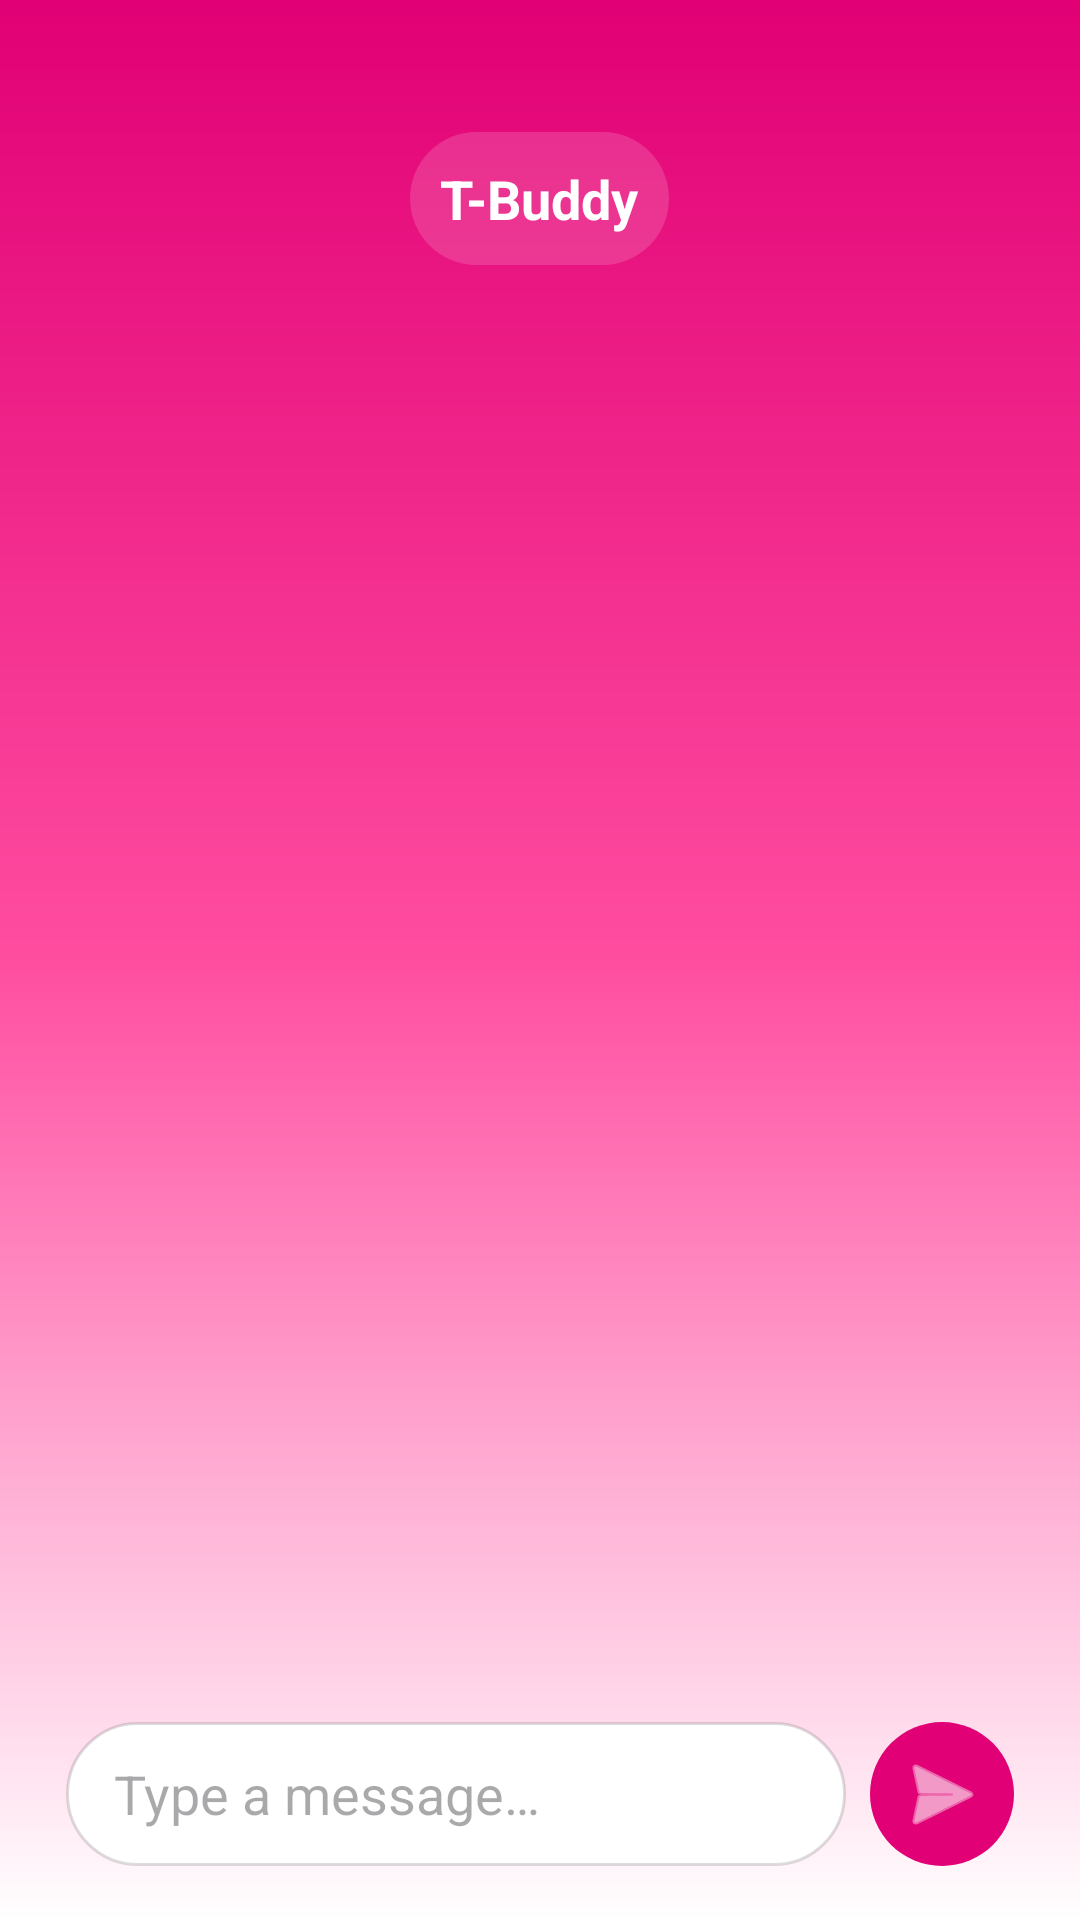

Icon bounding boxes for this 1080 × 1920 phone screenshot, format [left=x1, top=y1, right=x2, bottom=y2]:
Send: [left=870, top=1722, right=1014, bottom=1866]
